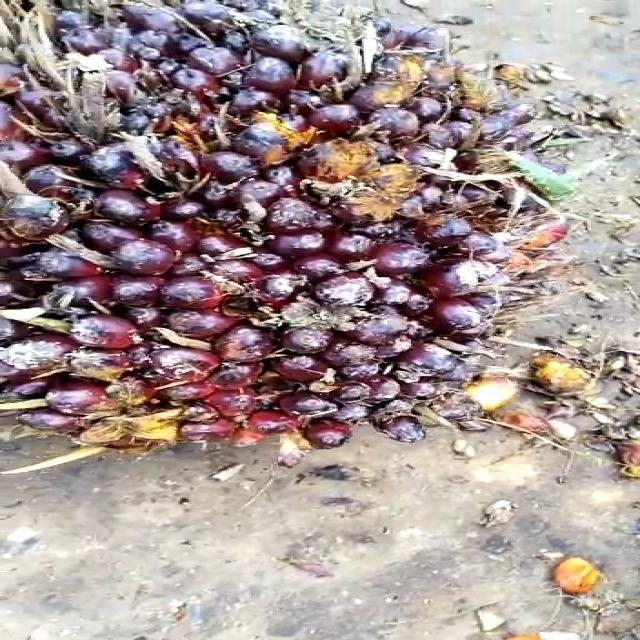palm oil: (0, 0, 596, 465)
